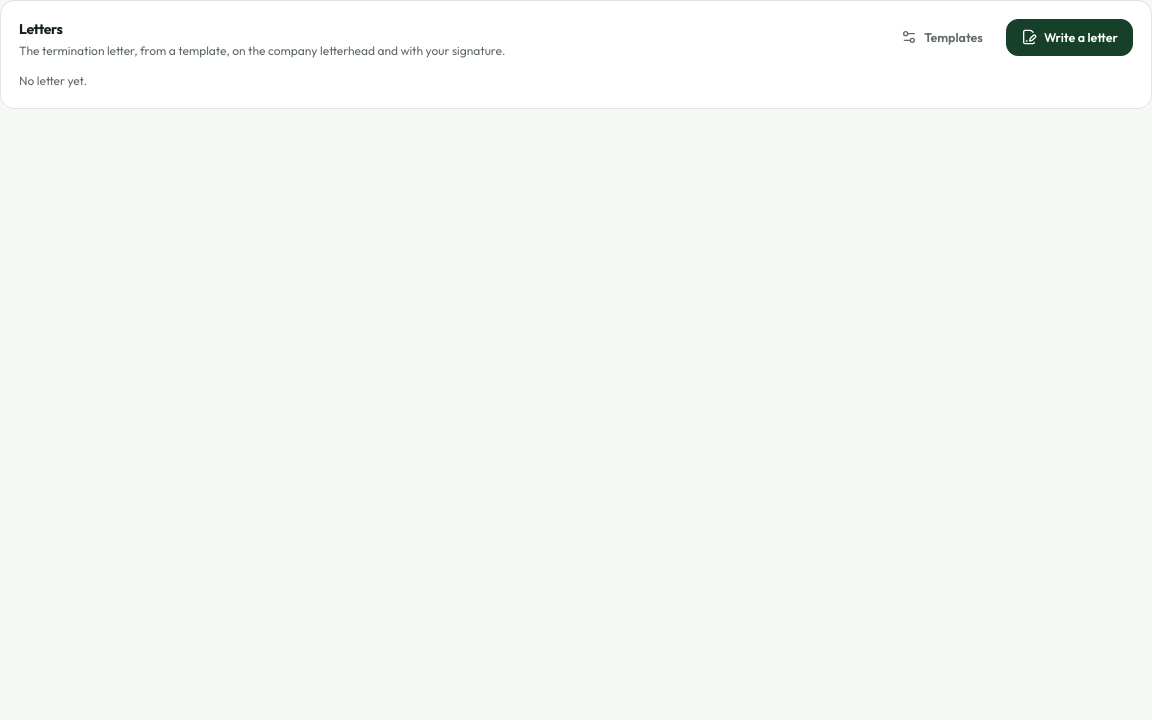
Test: exit letters › starts from the default template, filled in for this exit, with only active templates to pick
Click the button "Write a letter". click: (1069,37)
box: [1006, 19, 1133, 56]
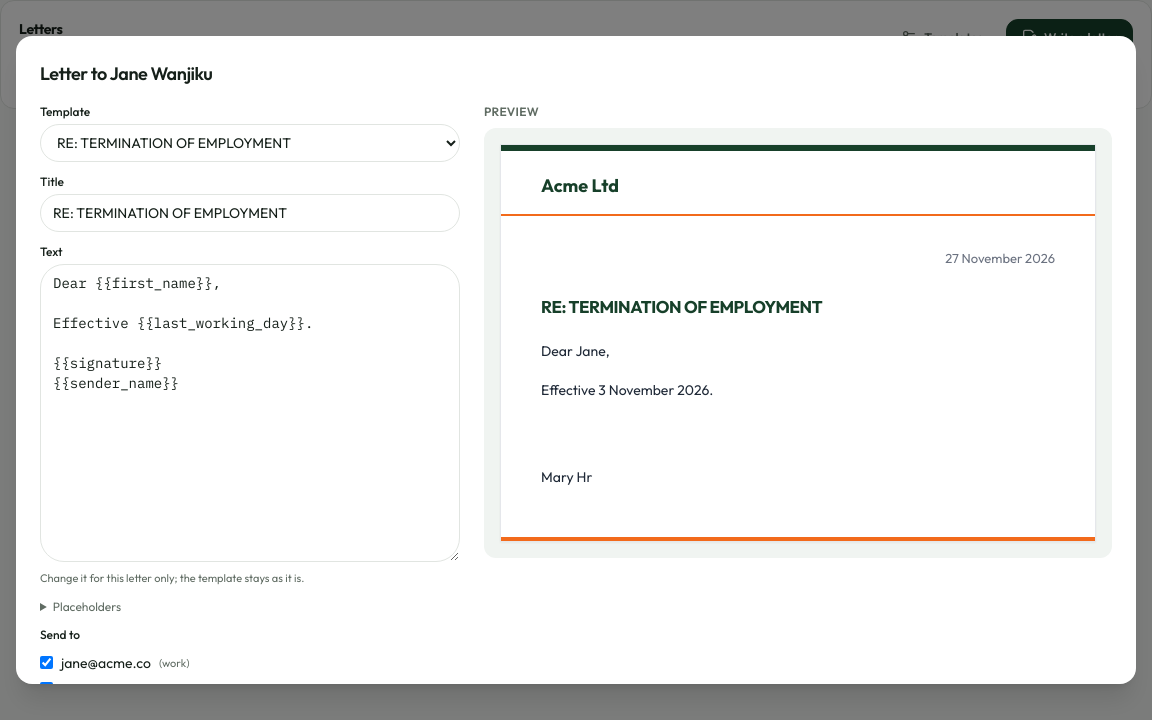
Result: the text "Dear Jane," is shown at [541, 342, 610, 360]
Result: the text "Effective 3 November 2026." is shown at [541, 381, 713, 399]
Result: the text "Mary Hr" is shown at [541, 468, 592, 486]
Select "RE: NON-CONFIRMATION OF EMPLOYMENT" in the dropdown labelled "Template". click: (250,143)
box: [40, 124, 460, 162]
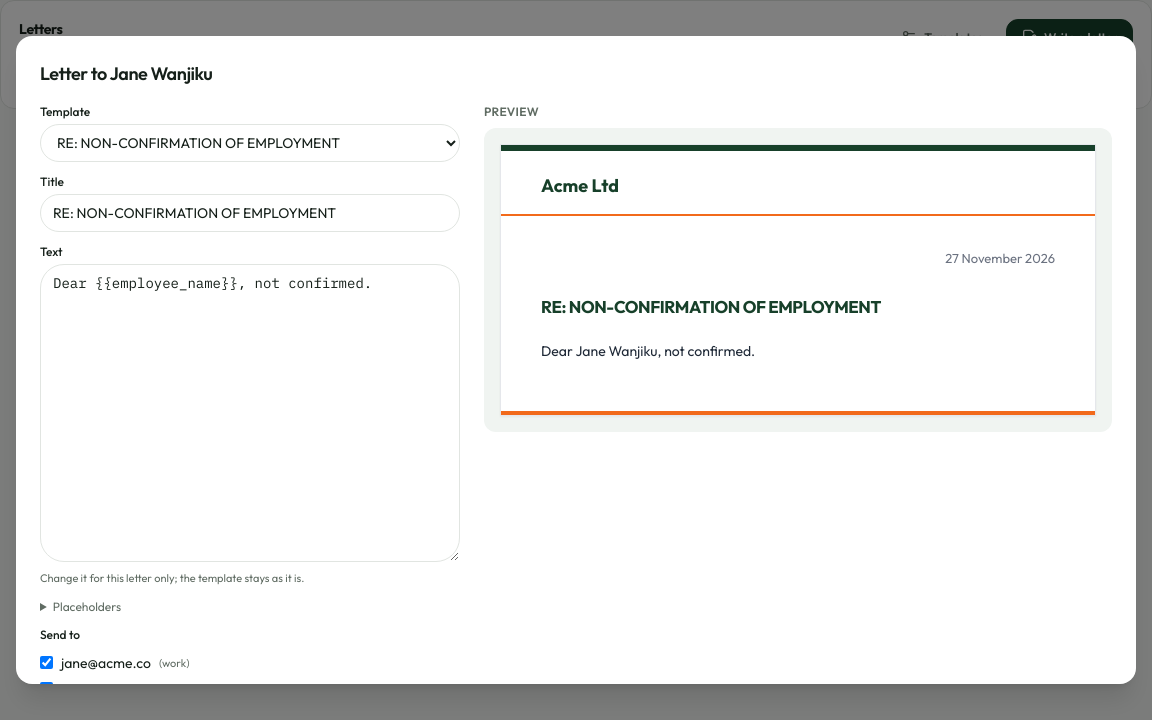
Result: the text "Dear Jane Wanjiku, not confirmed." is shown at [541, 342, 755, 360]
Result: the heading "RE: NON-CONFIRMATION OF EMPLOYMENT" is shown at [541, 296, 881, 317]
